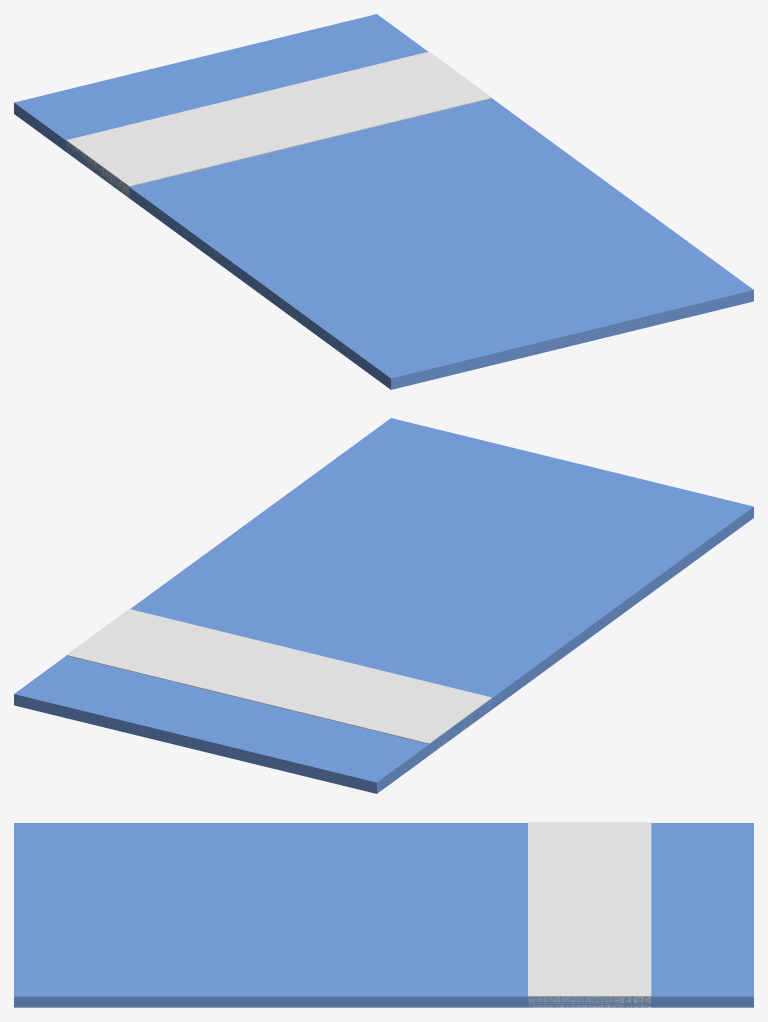
The model's file is Towel.fbx.
3 renders of one model, top to bottom at view 1: azimuth 30°, elevation 25°; view 2: azimuth 150°, elevation 25°; view 3: azimuth 270°, elevation 25°, orthographic.
Visible parts, largest first — view 1: Body; view 2: Body; view 3: Body.
Part boxes in pixels (left/top/right/bottom): Body: left=14, top=14, right=753, bottom=389; Body: left=14, top=418, right=753, bottom=793; Body: left=14, top=822, right=753, bottom=1007.
Size of the model in its own units: 1 by 0.032 by 1.8.
